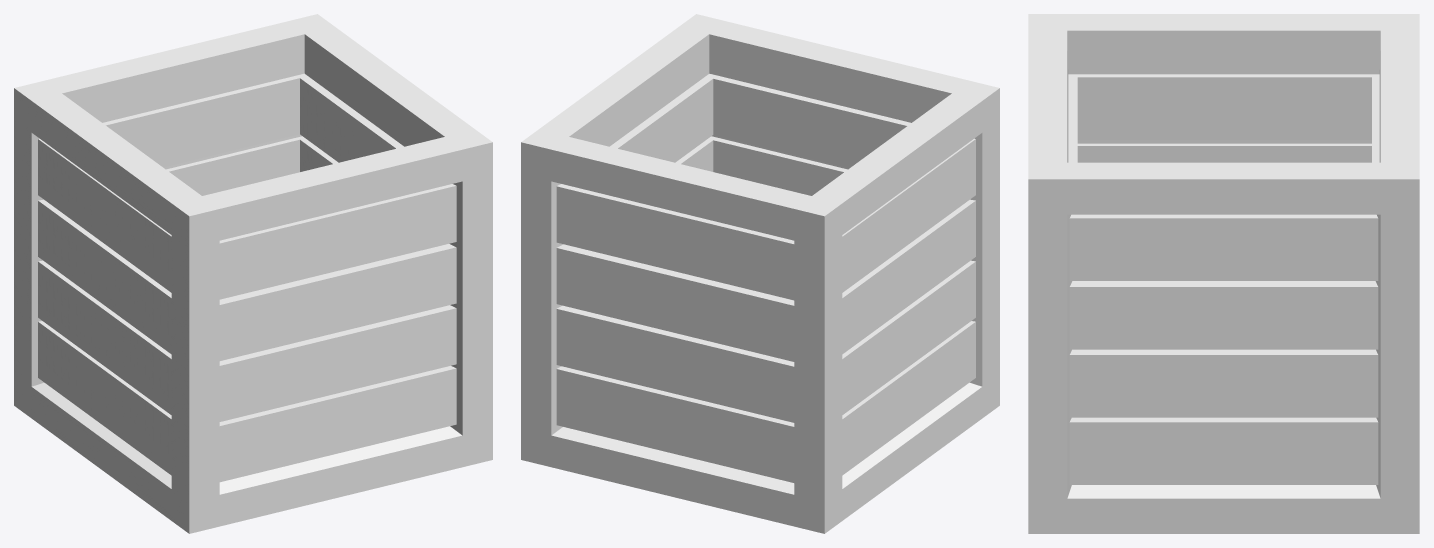
The model's file is DesertBoxlarge.glb.
3 renders of one model, left to right at view 1: azimuth 30°, elevation 25°; view 2: azimuth 150°, elevation 25°; view 3: azimuth 270°, elevation 25°, orthographic. The views are drawn at different scales.
Parts seen in each view (by area): view 1: DesertBoxLarge; view 2: DesertBoxLarge; view 3: DesertBoxLarge.
Part boxes in pixels (x1,y1,x2,y2): DesertBoxLarge: (14,14,492,533); DesertBoxLarge: (521,14,999,533); DesertBoxLarge: (1028,14,1419,533).
Size of the model in its own units: 1.4 by 1.4 by 1.4.
Materials: 1 (1 with a texture image).
